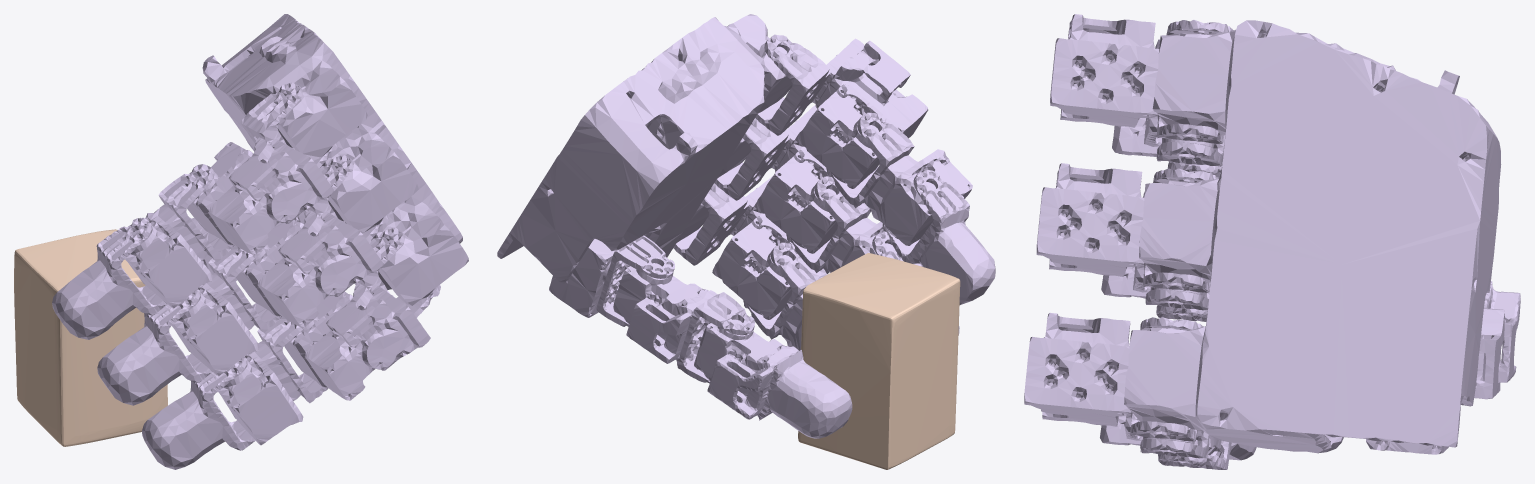
3 renders of one model, left to right at view 1: azimuth 30°, elevation 25°; view 2: azimuth 150°, elevation 25°; view 3: azimuth 270°, elevation 25°, orthographic. The views are drawn at different scales.
Parts seen in each view (by area): view 1: LEAP_hand, world; view 2: LEAP_hand, world; view 3: LEAP_hand.
Boxes of the visible parts, box(x1,y1,x2,y2) form: LEAP_hand: box(52, 14, 468, 469); world: box(14, 229, 167, 446); LEAP_hand: box(497, 14, 995, 438); world: box(798, 253, 960, 469); LEAP_hand: box(1024, 14, 1520, 469).
Bounding box in the file's own units: 0.2112 × 0.1828 × 0.15.
